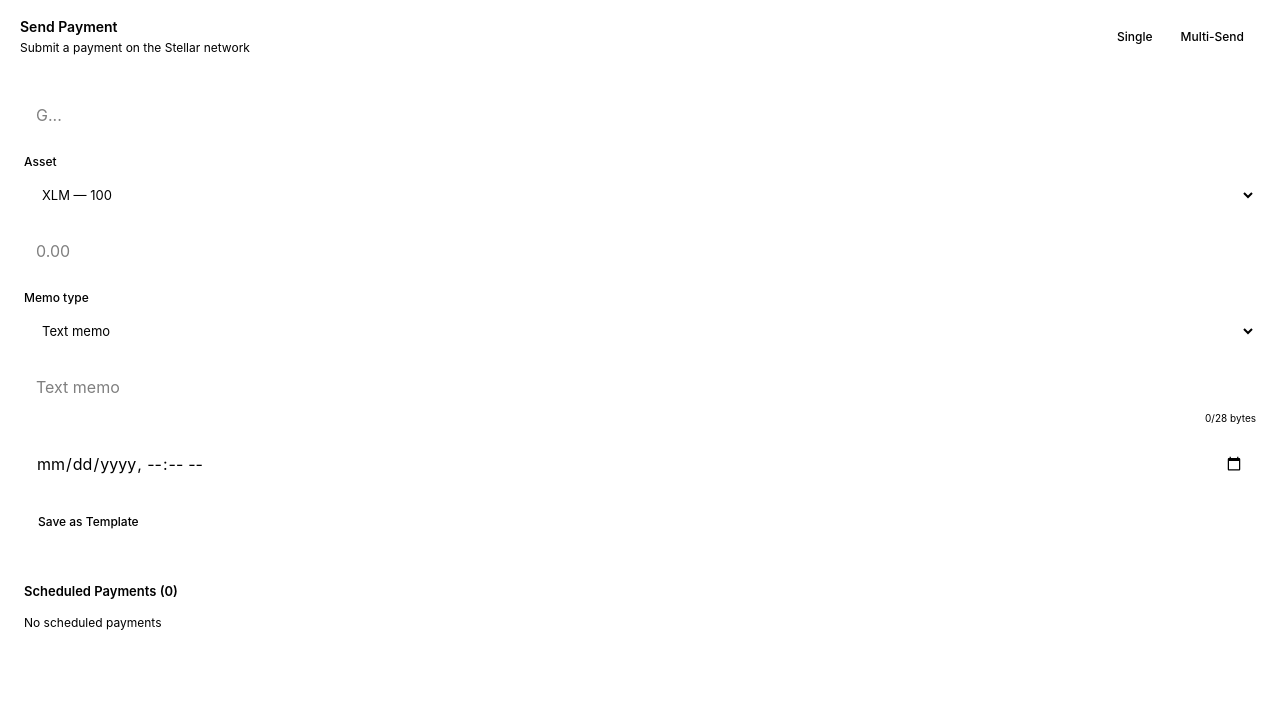
Test: TransactionPanel › memo character counter (#351) › does not render a counter for memo type ID or None
Step 1. Select "No memo" in the dropdown labelled "Memo type" → (640, 331), box [24,313,1256,349]
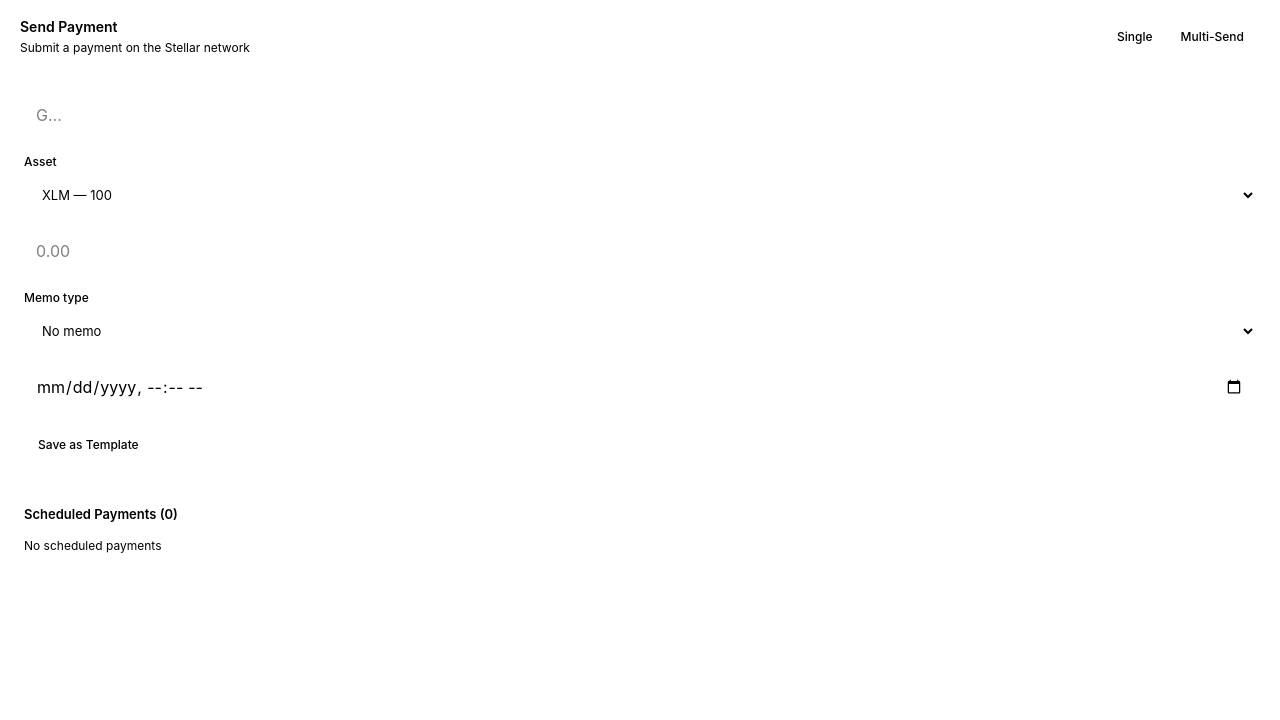
Now the text "0/28 bytes" is gone
